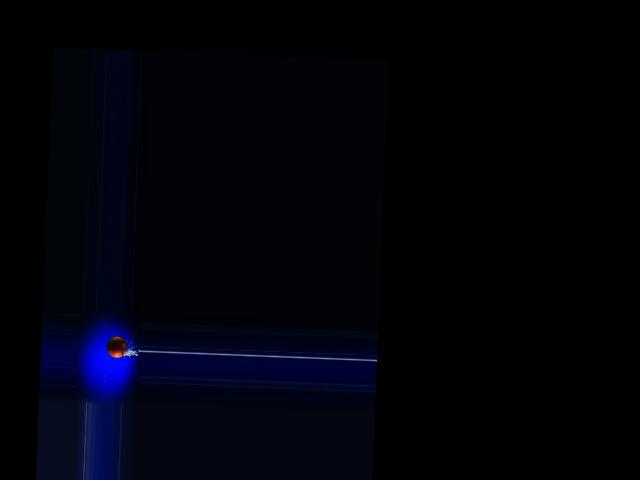tomato: (106, 335, 127, 357)
